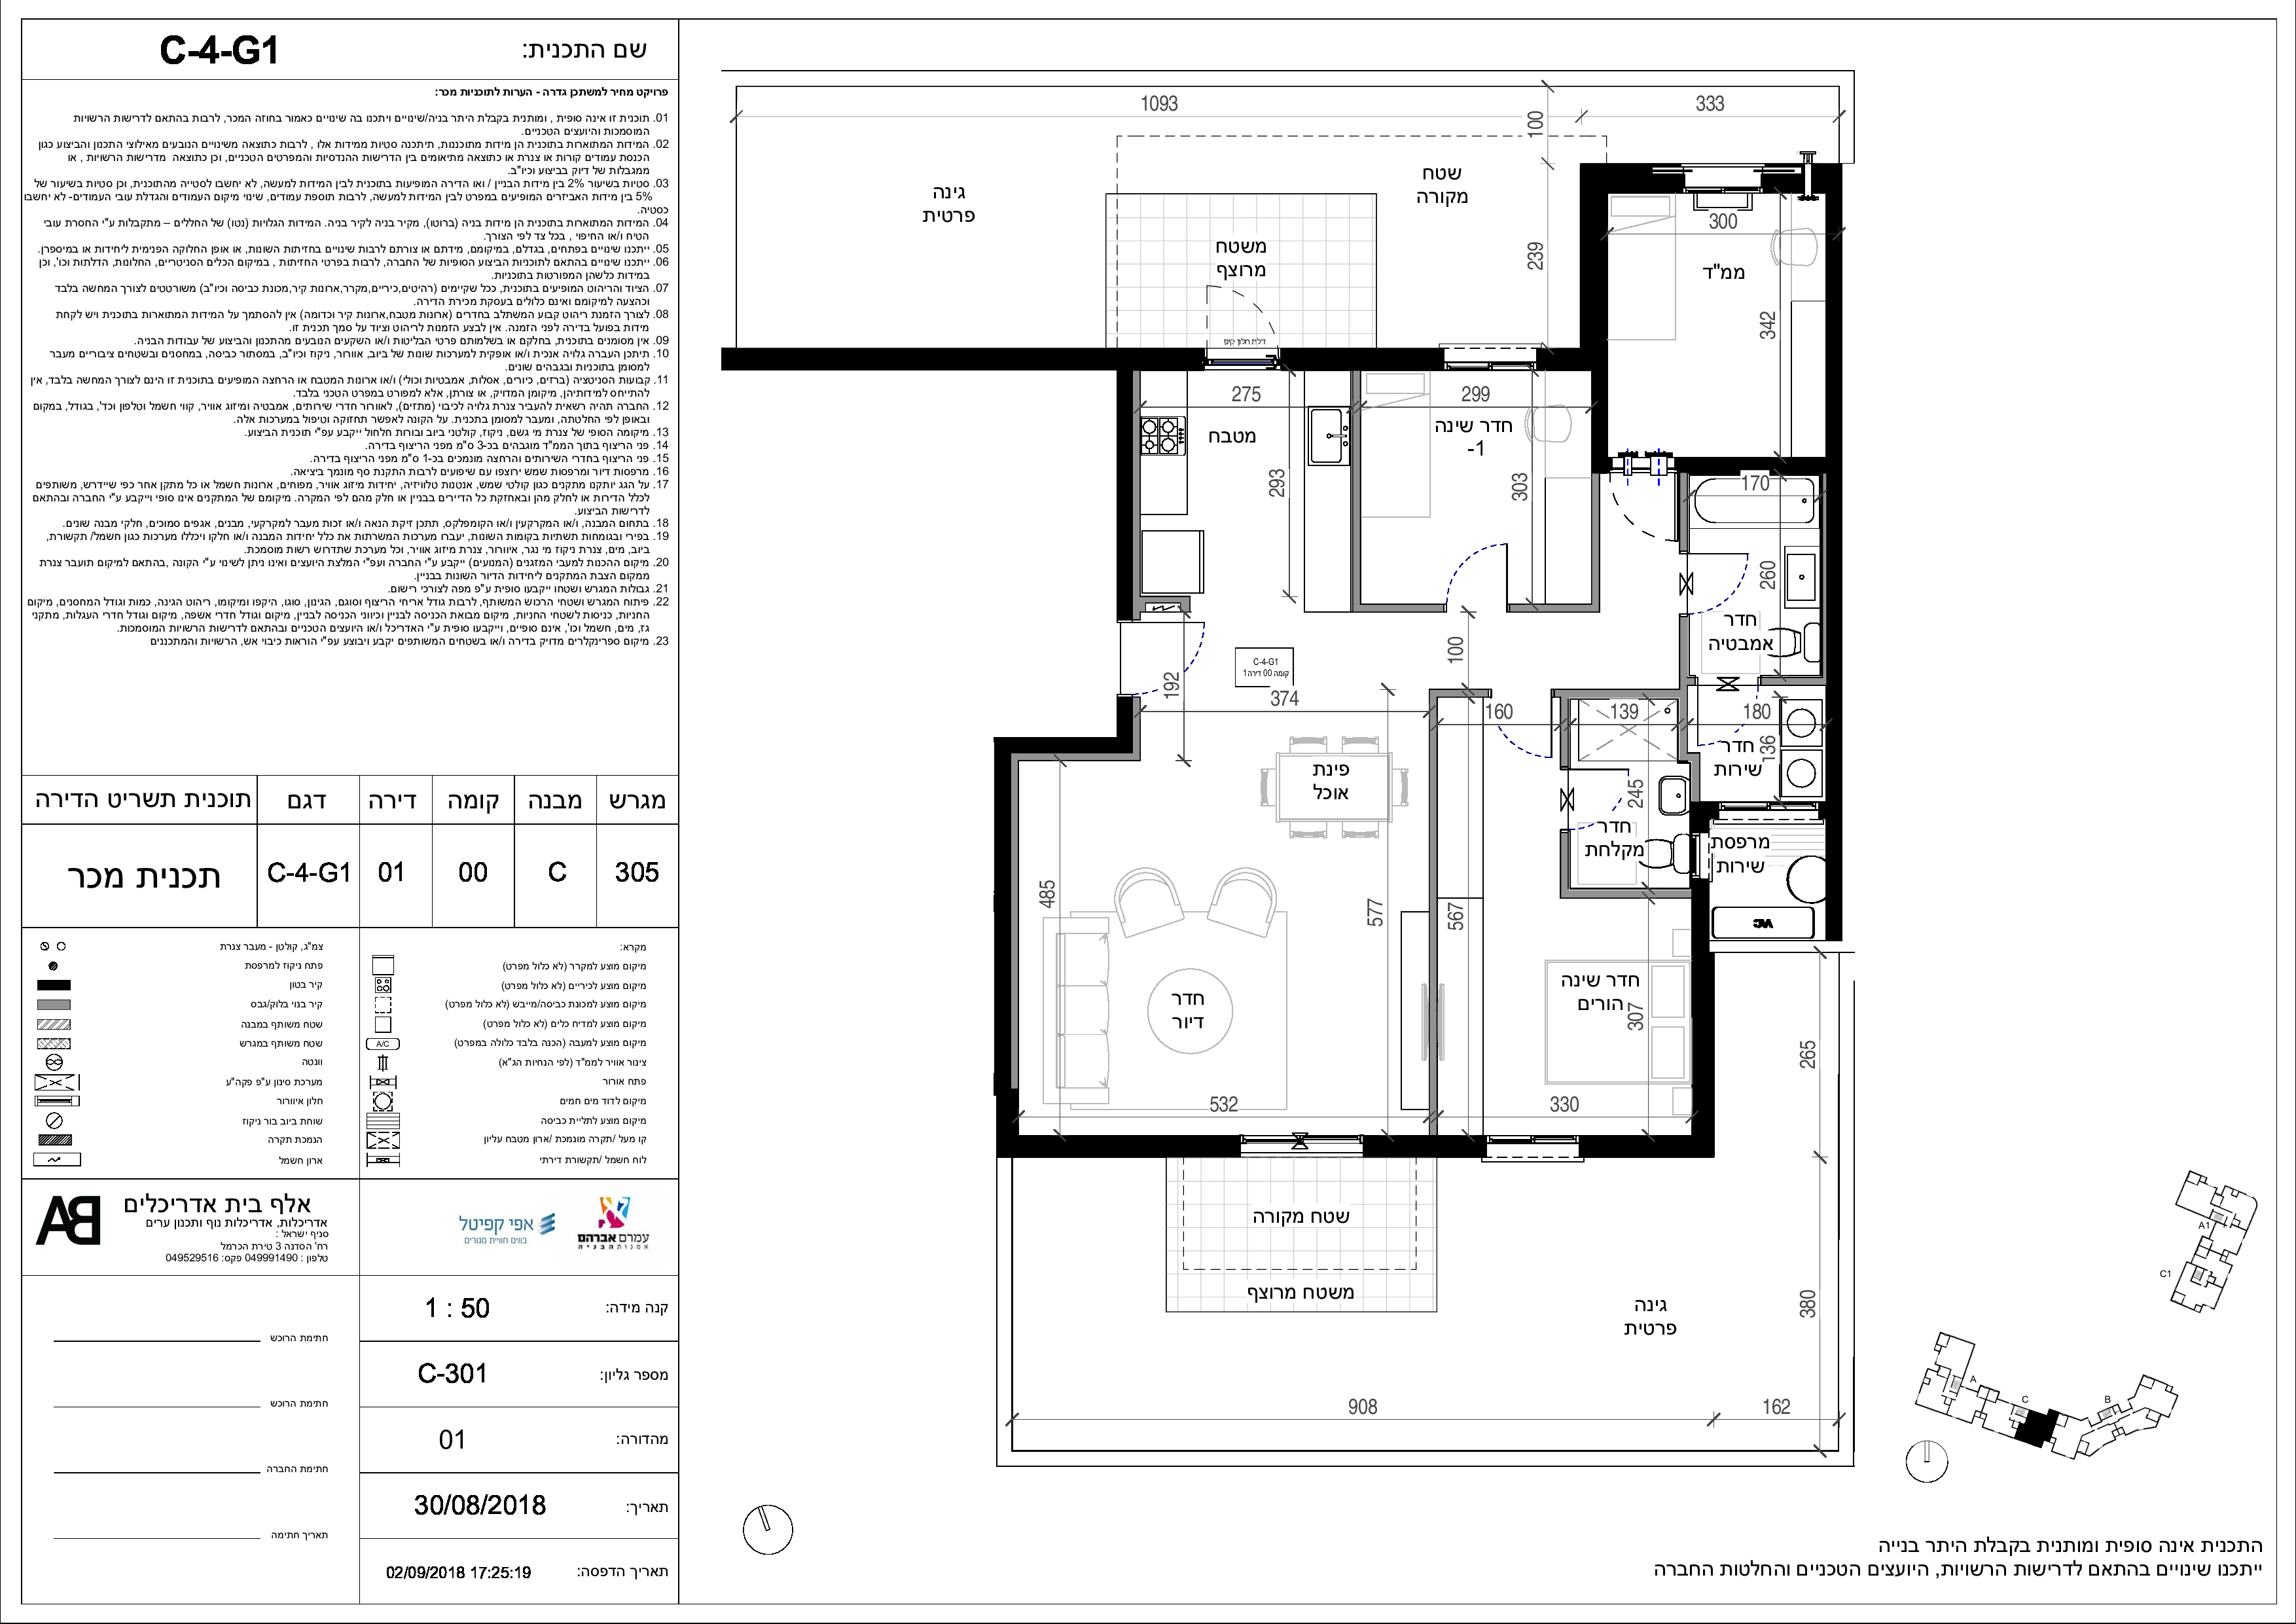door: (1574, 761, 1650, 840), (1688, 541, 1758, 622), (1196, 276, 1288, 337), (1437, 538, 1528, 599), (1484, 703, 1560, 763)
wall: (1827, 162, 1845, 939), (1579, 163, 1607, 371)
window: (1240, 1135, 1363, 1160), (1442, 350, 1537, 376), (1718, 801, 1820, 824), (1488, 1134, 1579, 1158)
